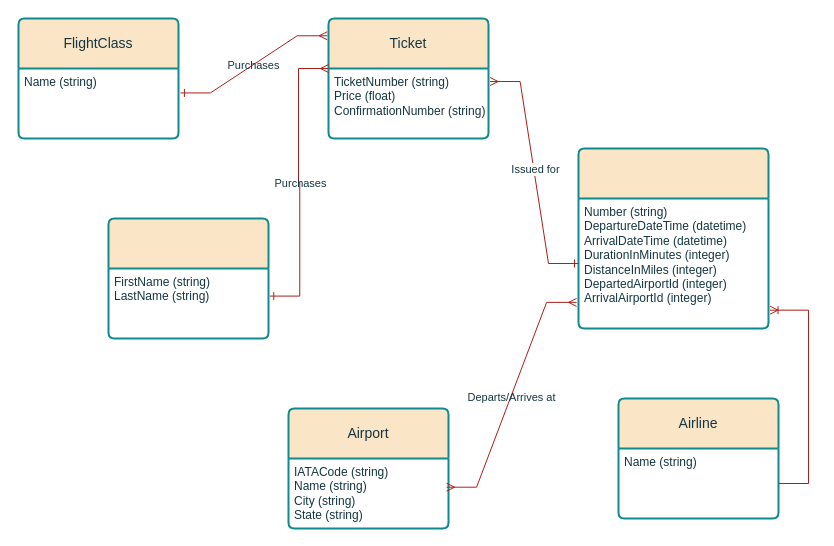
This 834x546 diagram has some shape labels left out. The shapes that lost their labels are listed below. From the top down, each one's box as (x1, y1, x2, y2) in pixels, then its label:
(577, 147, 769, 329): Flight
(107, 217, 269, 339): Passenger
